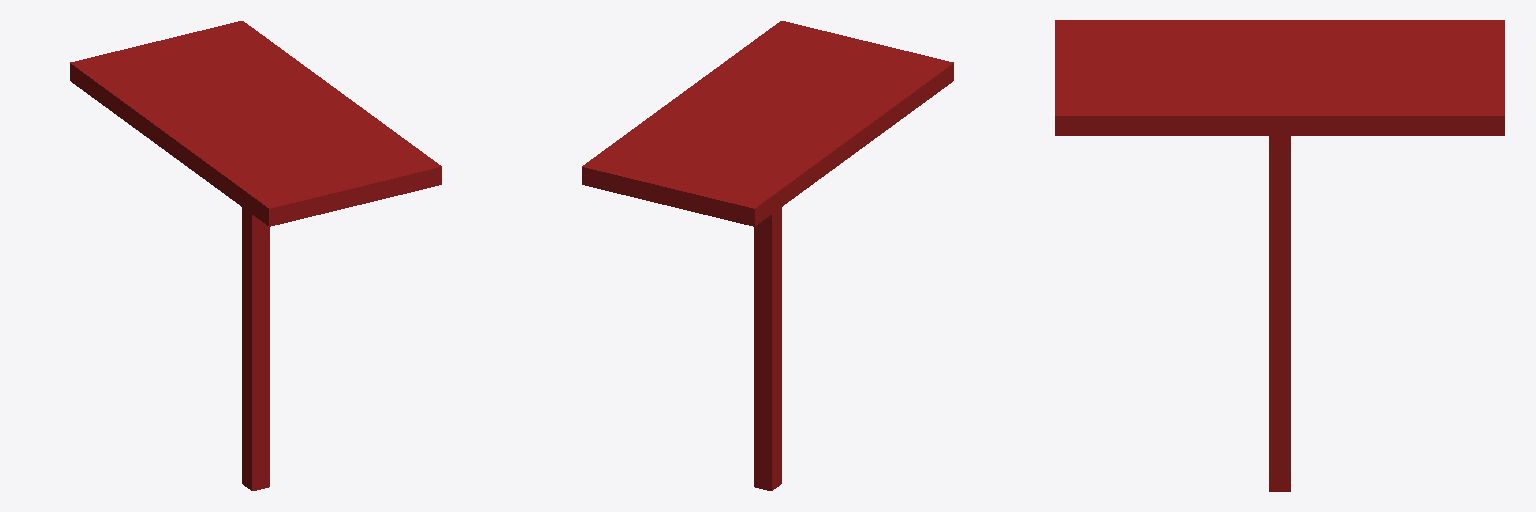
The robot description file, URDF, robot "table":

<robot name="table">
  <link name="base">
    <contact>
      <lateral_friction value="1.0"/>
    </contact>
    <inertial>
      <origin rpy="0 0 0" xyz="0 0 0"/>
       <mass value=".0"/>
       <inertia ixx="1" ixy="0" ixz="0" iyy="1" iyz="0" izz="1"/>
    </inertial>
    <visual>
      <origin rpy="0 0 0" xyz="0 0 0"/>
      <geometry>
				<box size="0.5 1 0.05"/>
      </geometry>
       <material name="brown">
        <color rgba="0.65 0.16 0.16 1"/>
      </material>
    </visual>
    <collision>
      <origin rpy="0 0 0" xyz="0 0 0"/>
      <geometry>
	 	     <box size="1.5 1 0.05"/>
      </geometry>
    </collision>
  </link>

  <link name="leg">
    <contact>
      <lateral_friction value="1.0"/>
    </contact>
    <inertial>
      <origin rpy="0 0 0" xyz="0 0 0"/>
       <mass value=".0"/>
       <inertia ixx="1" ixy="0" ixz="0" iyy="1" iyz="0" izz="1"/>
    </inertial>
    <visual>
      <origin rpy="0 0 0" xyz="0 0 0"/>
      <geometry>
        <box size="0.05 0.05 1"/>
      </geometry>
       <material name="brown">
        <color rgba="0.65 0.16 0.16 1"/>
      </material>
    </visual>
    <collision>
      <origin rpy="0 0 0" xyz="0 0 0"/>
      <geometry>
        <box size="0.05 0.05 1"/>
      </geometry>
    </collision>
  </link>

  <joint name="leg_to_top" type="fixed">
    <parent link="leg"/>
    <child link="base"/>
    <origin rpy="0 0 0" xyz="0 0 0.5"/>
  </joint>


</robot>

--- Render facts (derived) ---
Views: 3 orthographic renders of the robot side by side, from view 1: azimuth 30°, elevation 25°; view 2: azimuth 150°, elevation 25°; view 3: azimuth 270°, elevation 25°.
Model table with 2 links and 1 joints (1 fixed), rooted at leg, posed all joints at 0.
Visible links, largest first — view 1: base, leg; view 2: base, leg; view 3: base, leg.
Boxes of the visible links, <box> form: base: <box>70,21,441,226</box>; leg: <box>242,207,269,490</box>; base: <box>582,21,953,226</box>; leg: <box>754,207,781,490</box>; base: <box>1055,20,1504,135</box>; leg: <box>1269,136,1290,491</box>.
Size in the robot's own frame: 0.5 by 1 by 1.02 metres.
Geometry: primitives only (box / cylinder / sphere), no mesh files.